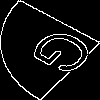G: (25, 25, 100, 84)
